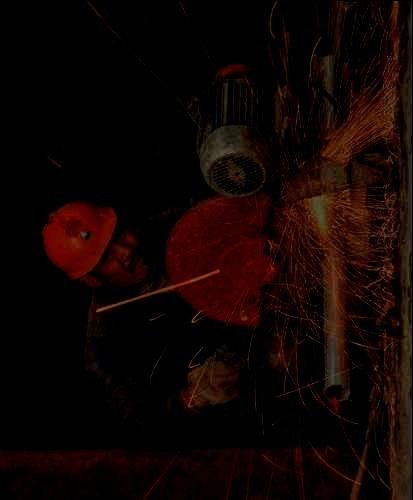helmet: (41, 201, 147, 291)
